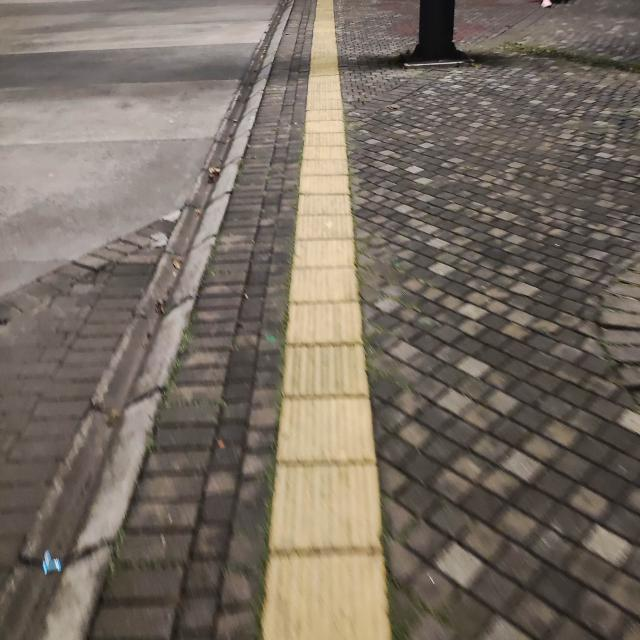lurus: (243, 13, 396, 640)
